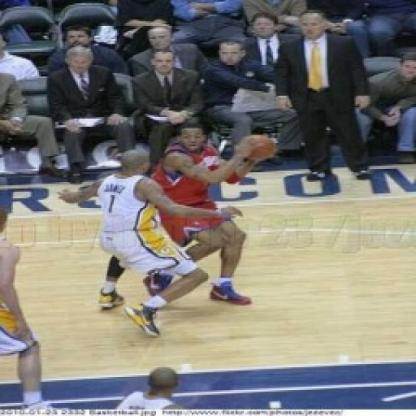basketball: (235, 134, 280, 166)
